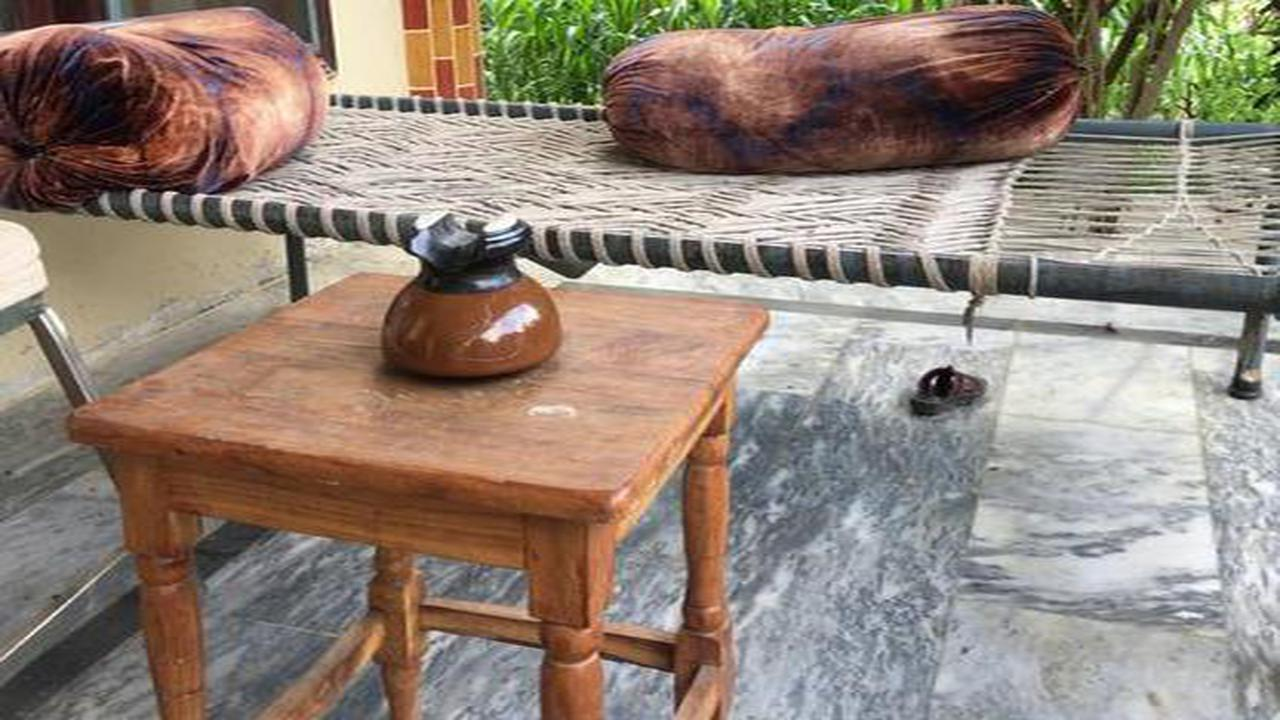insulator_pin: (361, 193, 582, 390)
